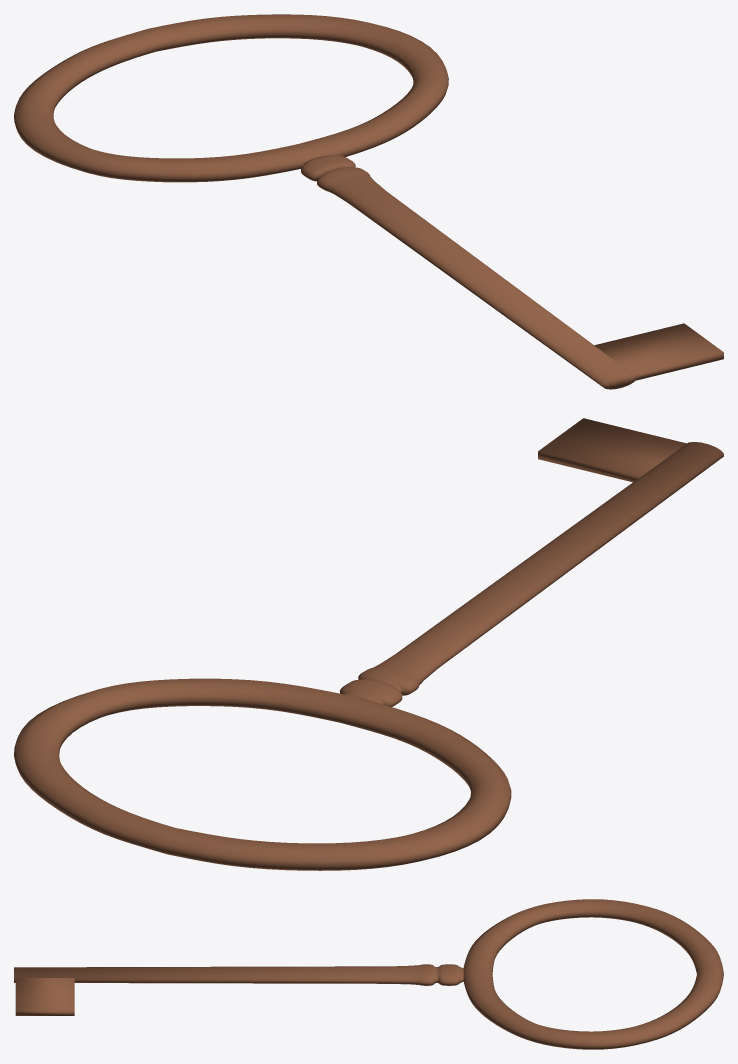
File: Circular_Wrench.fbx
3 views of the same model, one above another, from view 1: azimuth 30°, elevation 25°; view 2: azimuth 150°, elevation 25°; view 3: azimuth 270°, elevation 25° (orthographic). The views are drawn at different scales.
Visible parts, largest first — view 1: Circular_Wrench; view 2: Circular_Wrench; view 3: Circular_Wrench.
Boxes of the visible parts, x1,y1,x2,y2 form: Circular_Wrench: (14,14,723,389); Circular_Wrench: (14,418,723,870); Circular_Wrench: (14,899,723,1049).
Bounding box in the file's own units: 23.18 × 0.9964 × 48.06.
